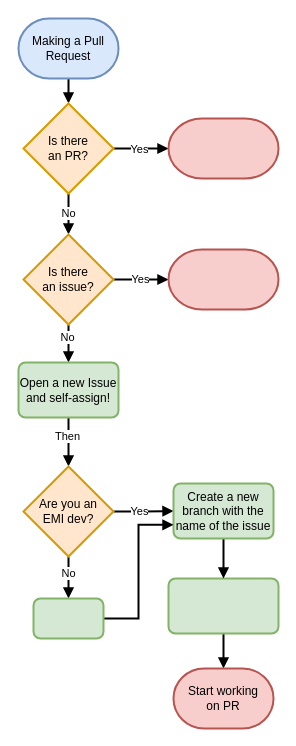
Image size: 296x746. Some labels were removed from this diagram. The shapes that lost their labels are listed below. From the top down, each one's centre as x and y in pixels, then its label:
the point at 223,148: Ask what you can do on that PR!
the point at 223,279: Ask what you can do on that Issue!
the point at 68,618: Fork EMI
the point at 223,605: Open a new PR draft and reference the issue!
